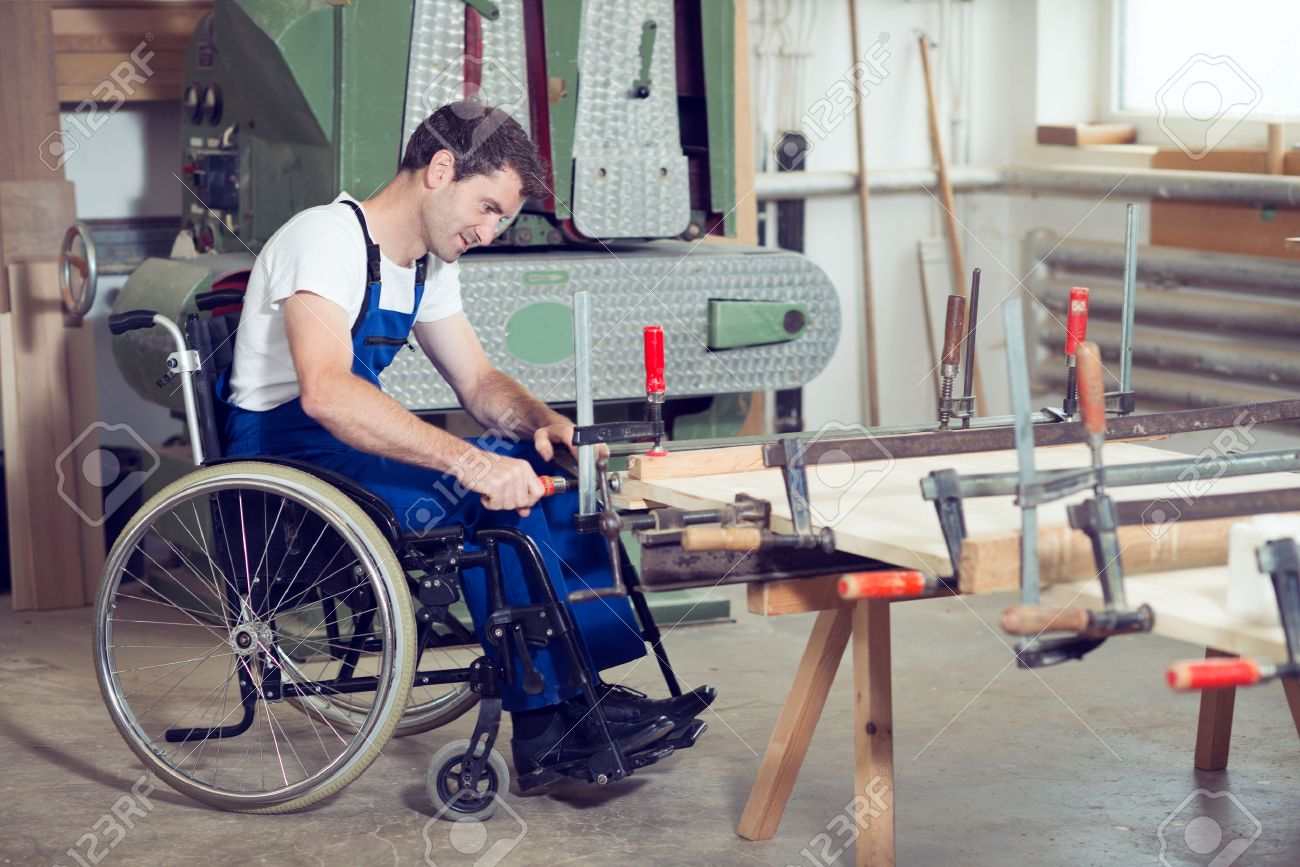wheelchair: (92, 99, 713, 824)
